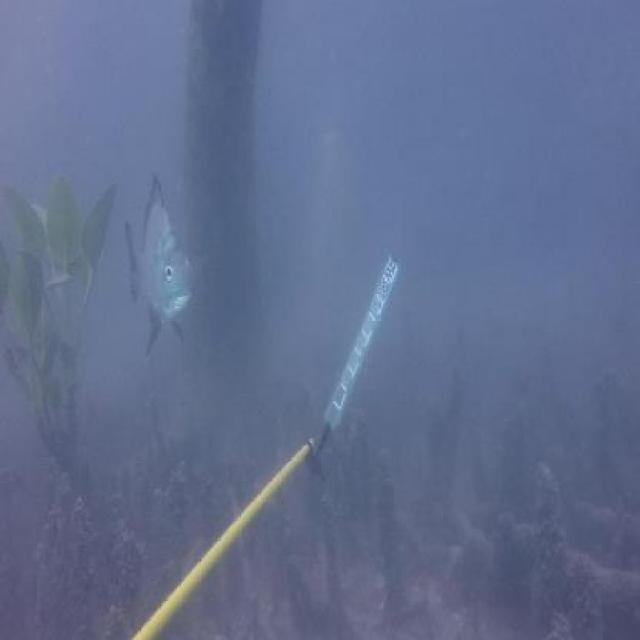acanthopagrus_palmaris: (121, 166, 202, 360)
